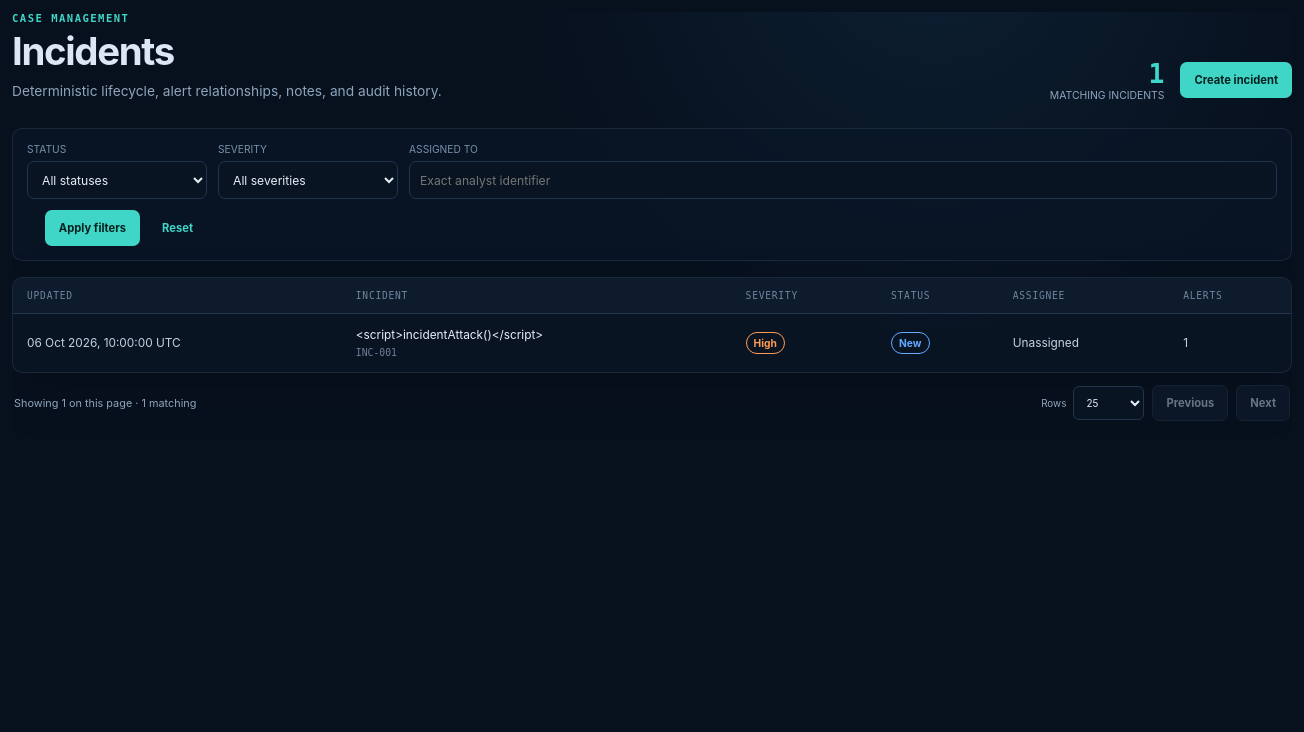
it: IncidentsPage › surfaces a backend lifecycle conflict without pretending success
Click the button "<script>incidentAttack()</script>" at (450, 336), box [356,328,543,342]
(page scrolled)
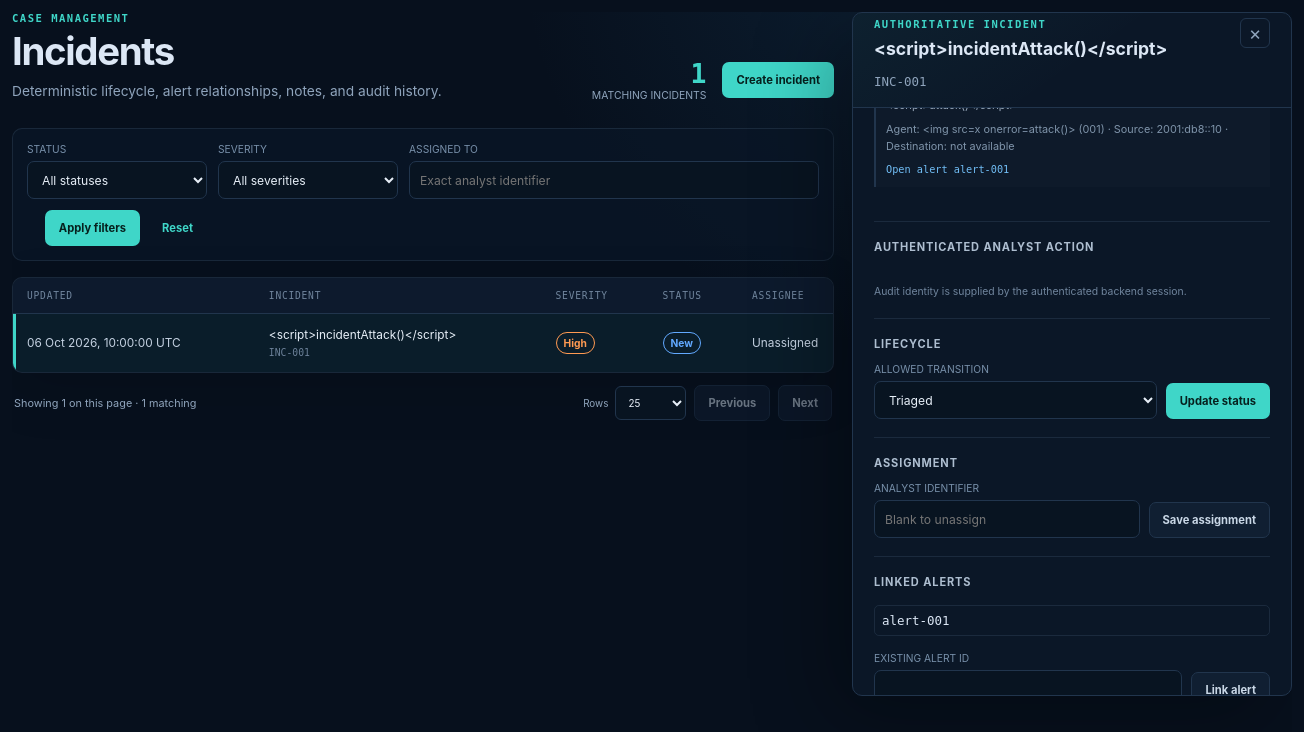
Click the button "Update status" at (1218, 401), box [1166,383,1270,419]
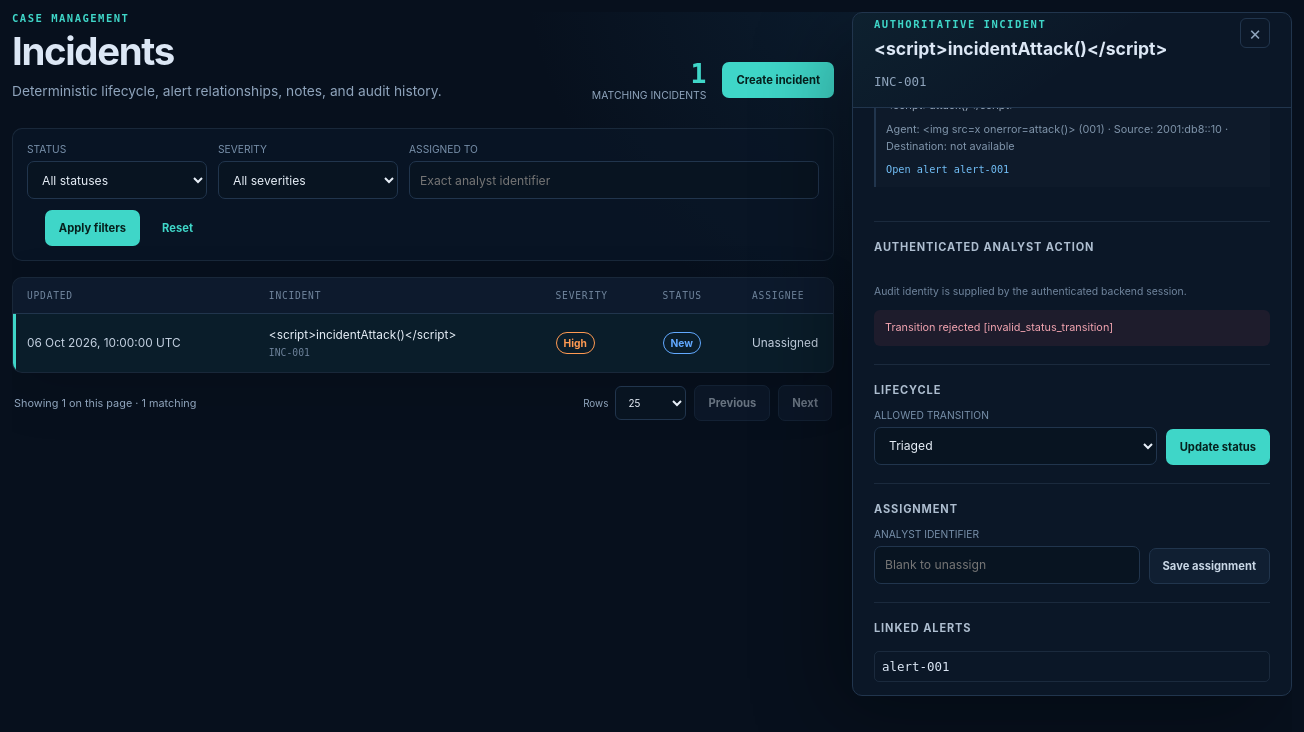
Check: the text "Transition rejected [invalid_status_transition]" is shown, box [874,310,1270,346]
